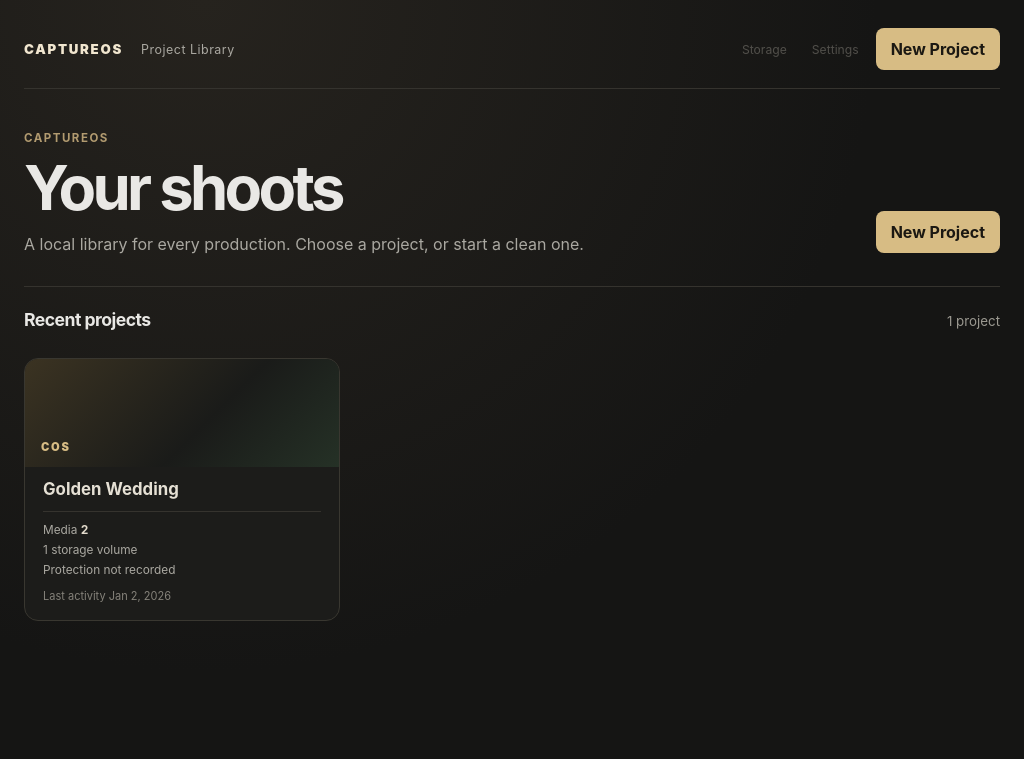
Test case: CaptureOS application shell and local media engine › updates a completed set immediately and renders filenames instead of internal asset IDs
The width and height of the screenshot is (1024, 759).
Step 1. Click the button with aria-label "Open Golden Wedding" → (182, 413), box [24,358,340,621]
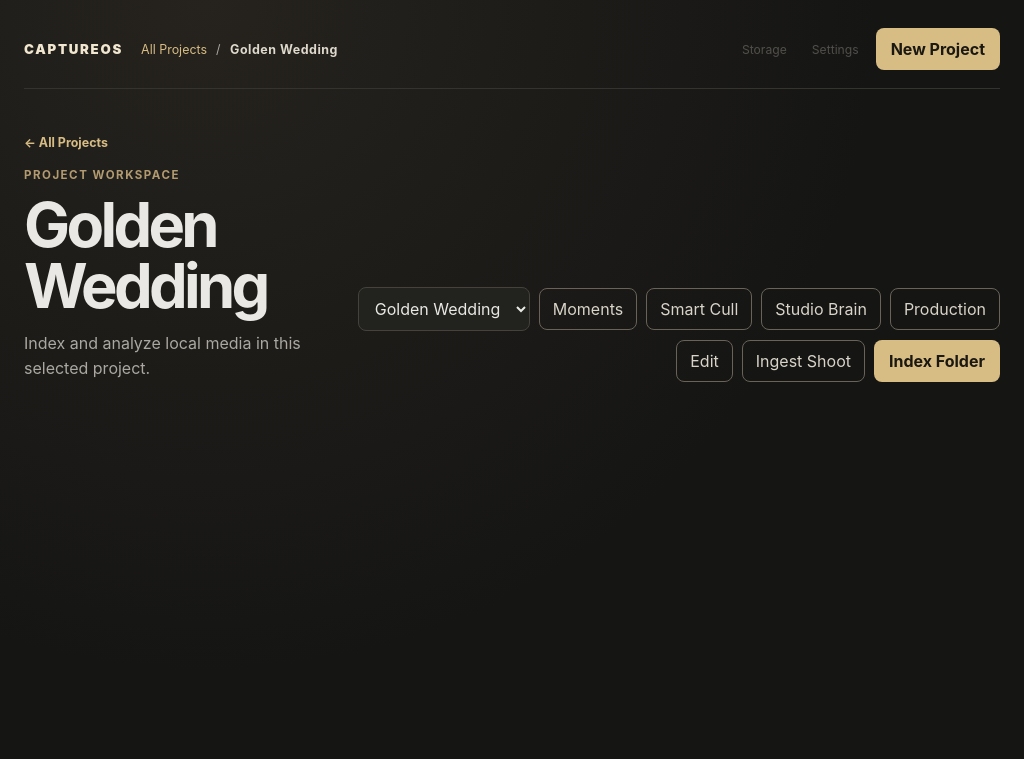
Step 2. Click the button "Smart Cull" → (699, 309), box [646,288,752,330]
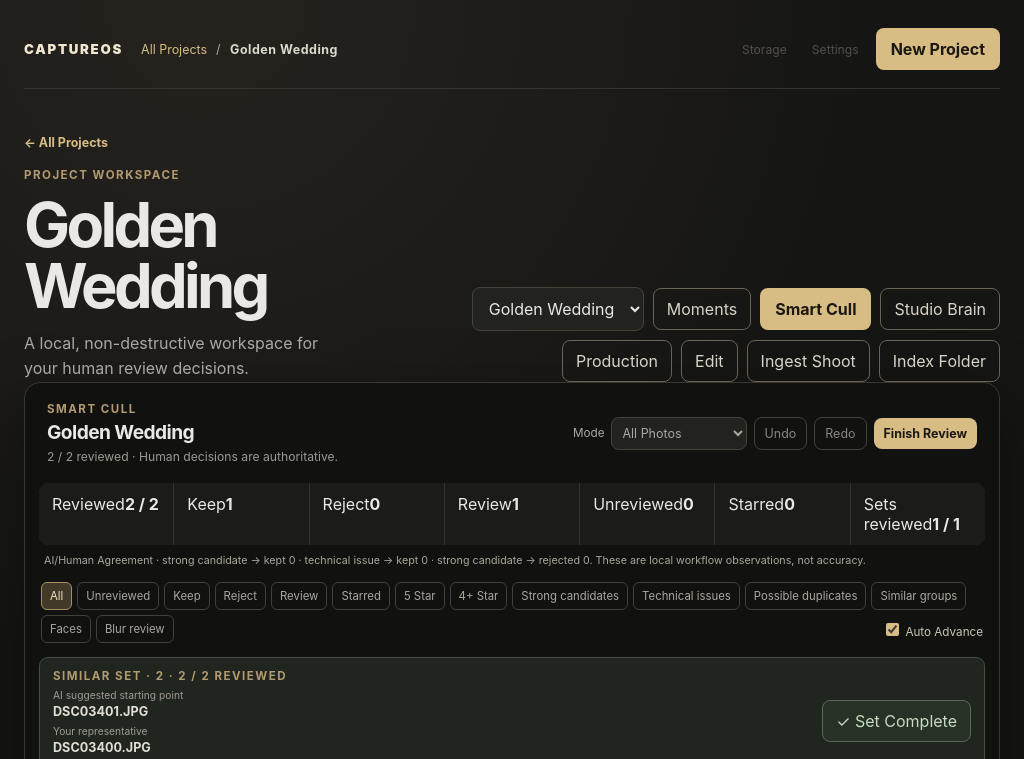
Now the text "DSC03401.JPG" is shown, box [53,704,148,719]
Now the text "DSC03400.JPG" is shown, box [53,740,151,755]
Now the button "✓ Set Complete" is disabled, box [822,700,971,742]
